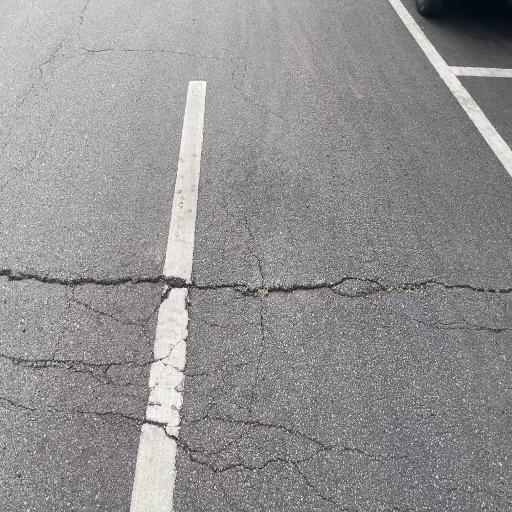Melintang: (0, 245, 512, 318)
